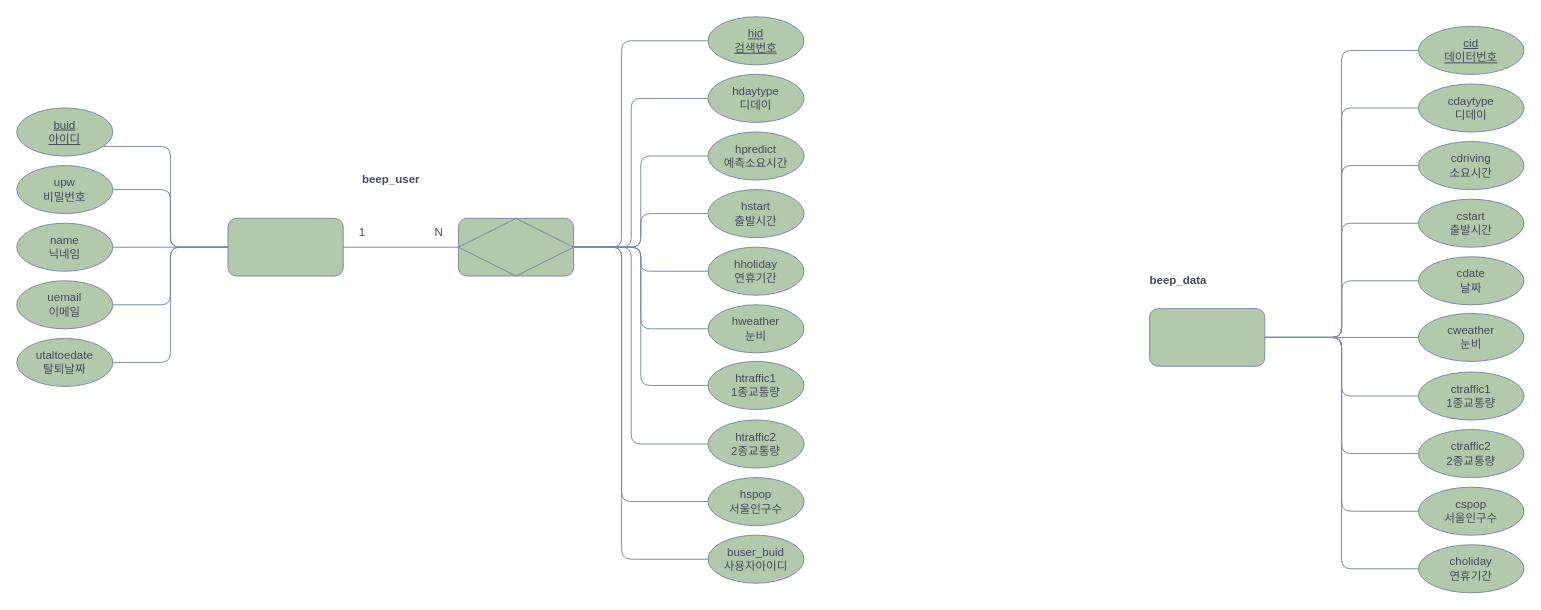
This 1541x610 diagram has some shape labels left out. The centre of each missing label's shape, as x and y in pixels:
"buser 사용자" goes at point (285, 246).
"cdata chart_데이터" goes at point (1207, 337).
"history 검색이력" goes at point (515, 246).
